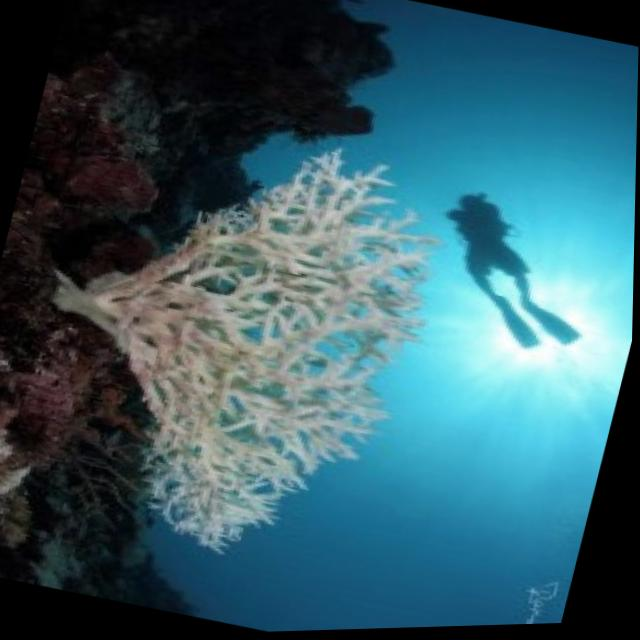Bleached Coral: (36, 93, 471, 593)
